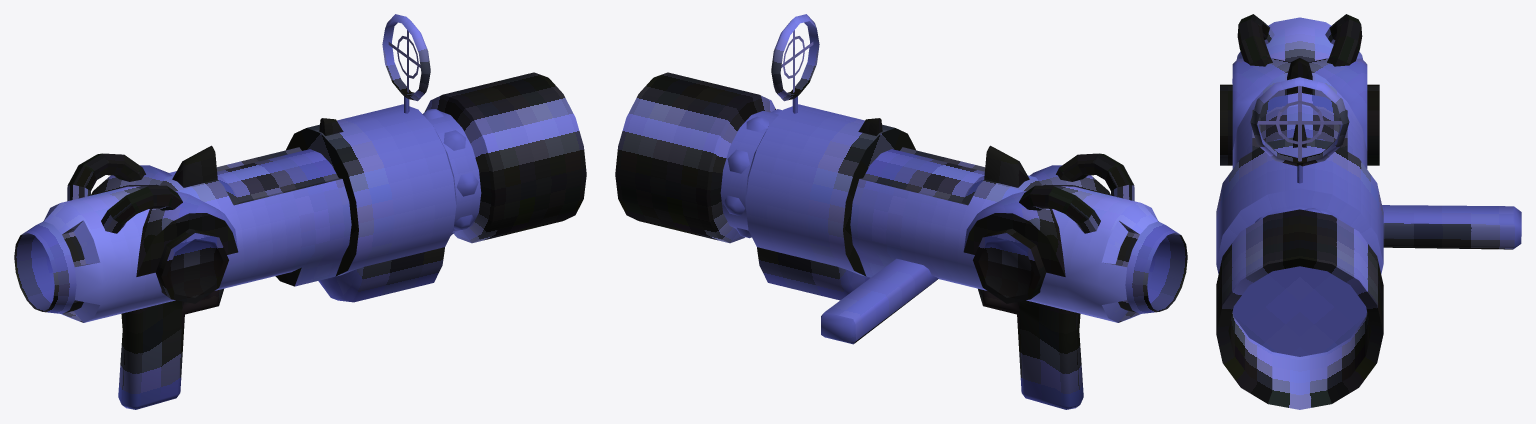
File: Devastator.obj
The picture shows the model from 3 angles, left to right: view 1: azimuth 30°, elevation 25°; view 2: azimuth 150°, elevation 25°; view 3: azimuth 270°, elevation 25°; orthographic projection. The views are drawn at different scales.
Visible parts, largest first — view 1: Mesh0; view 2: Mesh0; view 3: Mesh0.
Boxes of the visible parts, x1,y1,x2,y2 form: Mesh0: [14, 14, 586, 409]; Mesh0: [615, 14, 1187, 409]; Mesh0: [1216, 14, 1521, 409].
Size of the model in its own units: 41.79 by 25.08 by 19.58.
